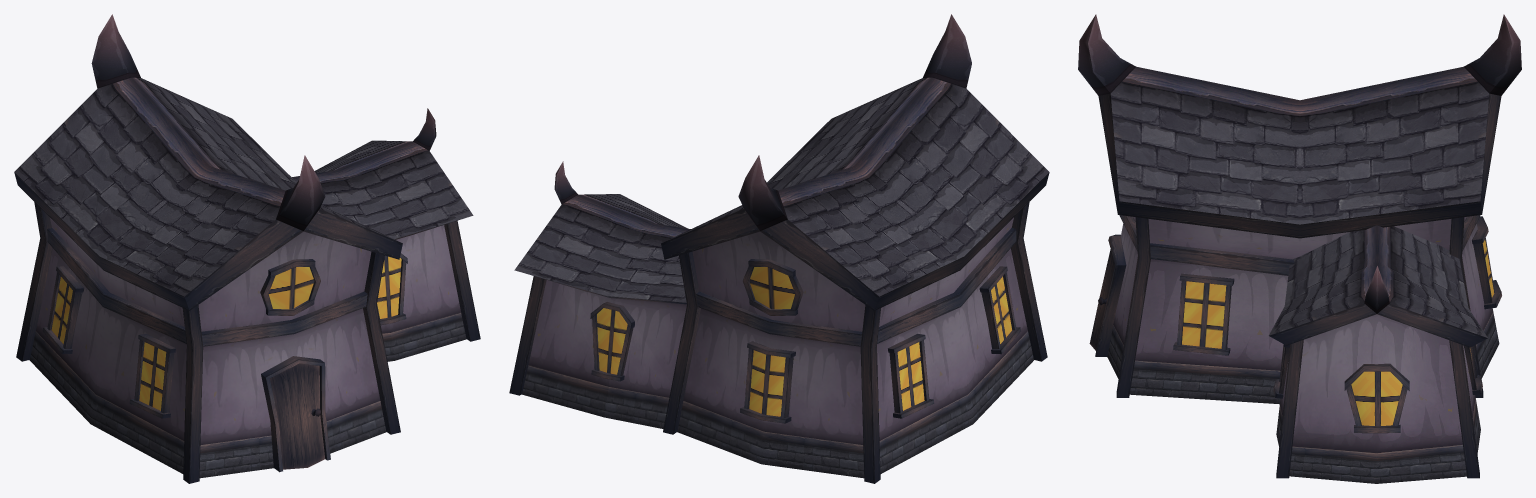
The model's file is House_D.fbx.
3 views of the same model, side by side, from view 1: azimuth 30°, elevation 25°; view 2: azimuth 150°, elevation 25°; view 3: azimuth 270°, elevation 25° (orthographic). The views are drawn at different scales.
Parts seen in each view (by area): view 1: House_D; view 2: House_D; view 3: House_D.
Part boxes in pixels (x1=…): House_D: x1=14, y1=14, x2=480, y2=483; House_D: x1=509, y1=14, x2=1049, y2=483; House_D: x1=1078, y1=14, x2=1521, y2=483.
Size of the model in its own units: 264 by 202 by 246.
Materials: 1 (1 with a texture image).
